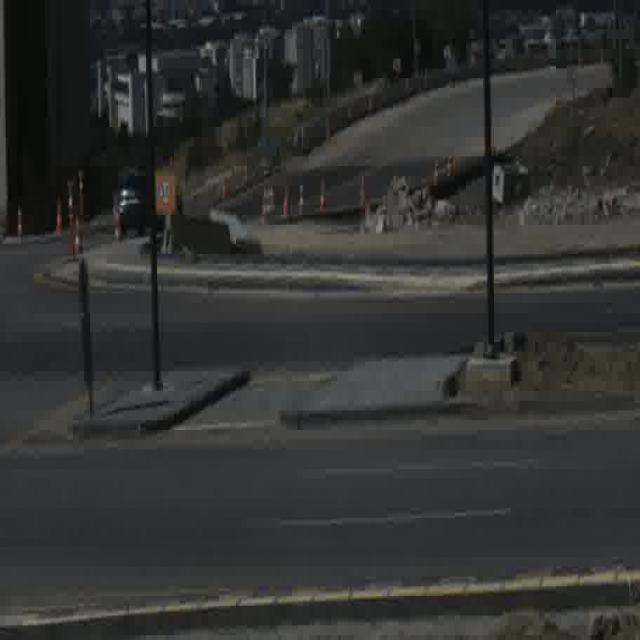Car: (119, 171, 174, 234)
